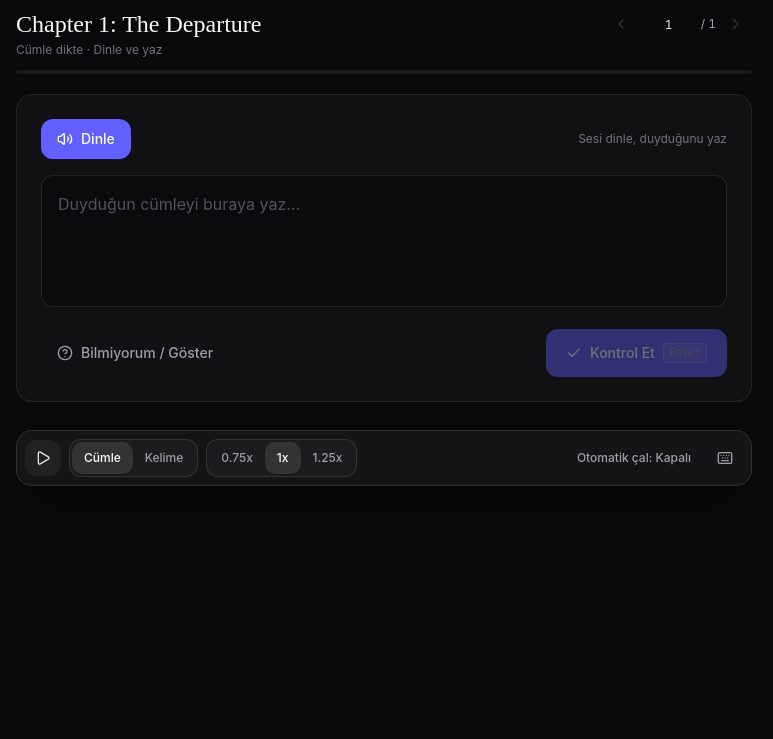
Scenario: StudySessionView Component (Faz 1 & Faz 3) › correction flow: user corrects sentence in reviewing state and advances to shadowing
The width and height of the screenshot is (773, 739).
Type "He packed his suitcase." into the text box. click: x=384, y=241
box: [41, 175, 727, 306]
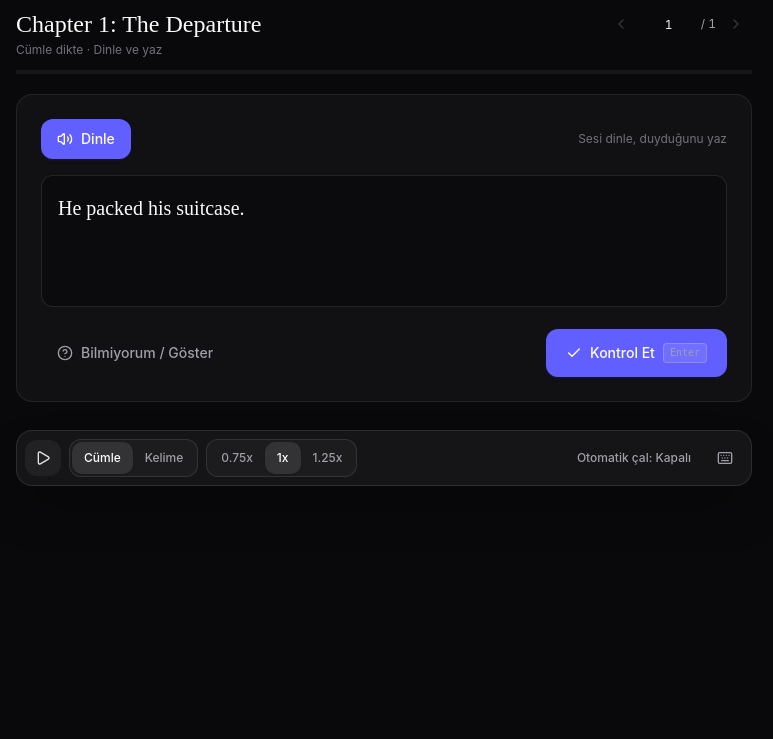
Click the button "Kontrol Et Enter". click: x=637, y=352
box: [546, 328, 727, 376]
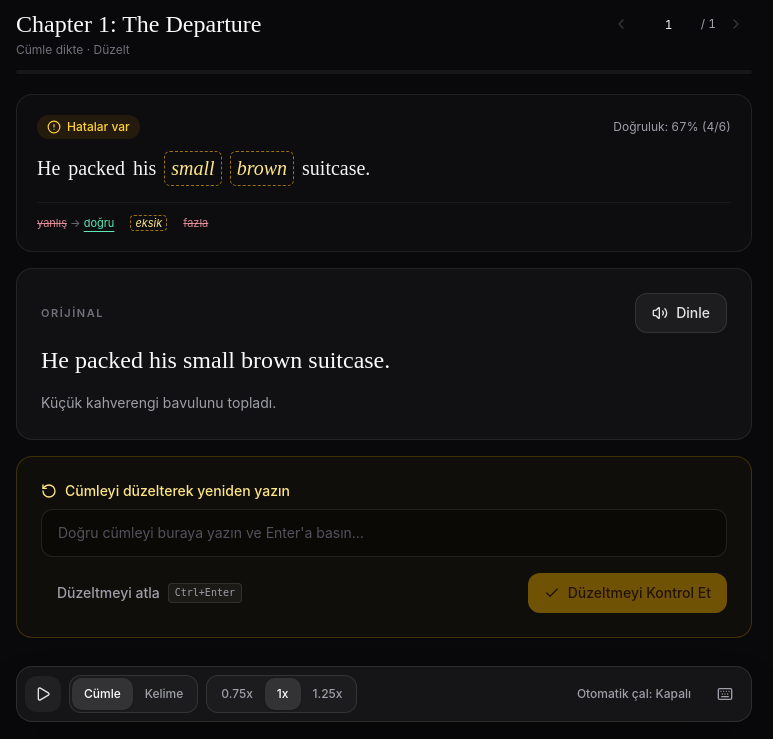
User is in reviewing state, now corrects in correction input
Type "He packed his small brown suitcase." into the field with placeholder "Doğru cümleyi buraya yazın ve Enter'a basın…". click: x=384, y=533
box: [41, 509, 727, 557]
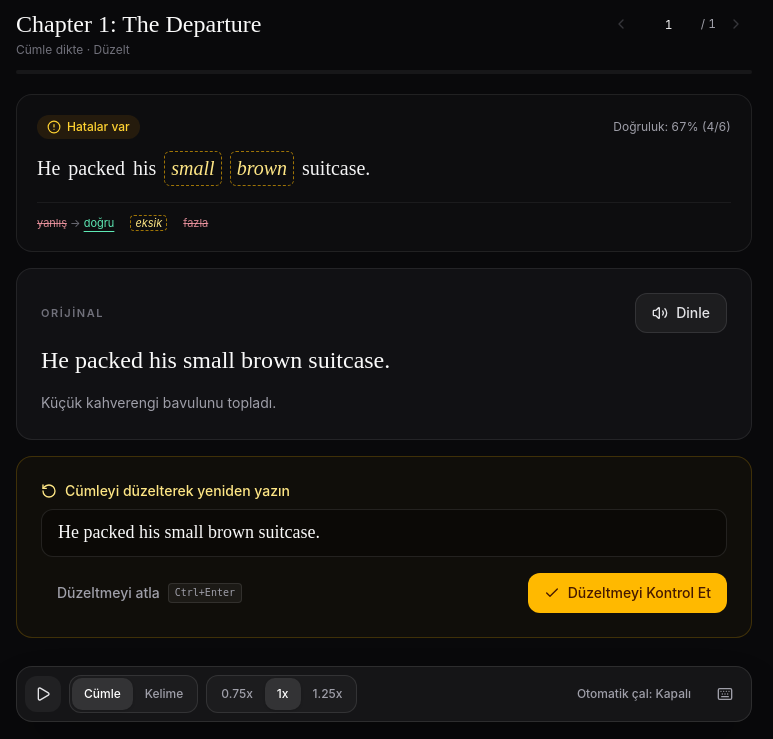
Click the button "Düzeltmeyi Kontrol Et". click: x=627, y=593
box: [528, 573, 727, 613]
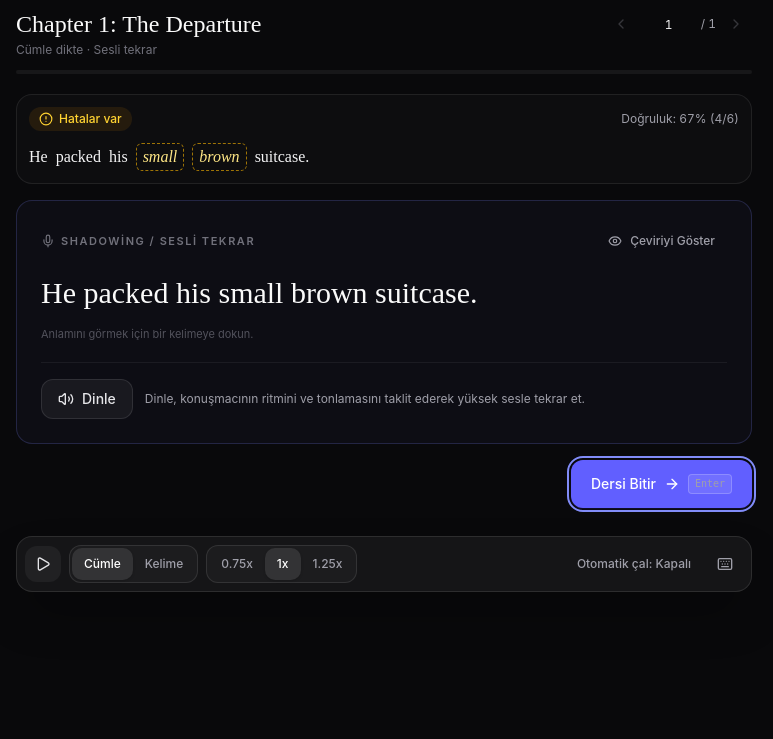
Expected: the text "Shadowing / Sesli Tekrar" is shown, [41, 233, 255, 249]
Expected: the button "Dersi Bitir Enter" is shown, [571, 460, 752, 508]
